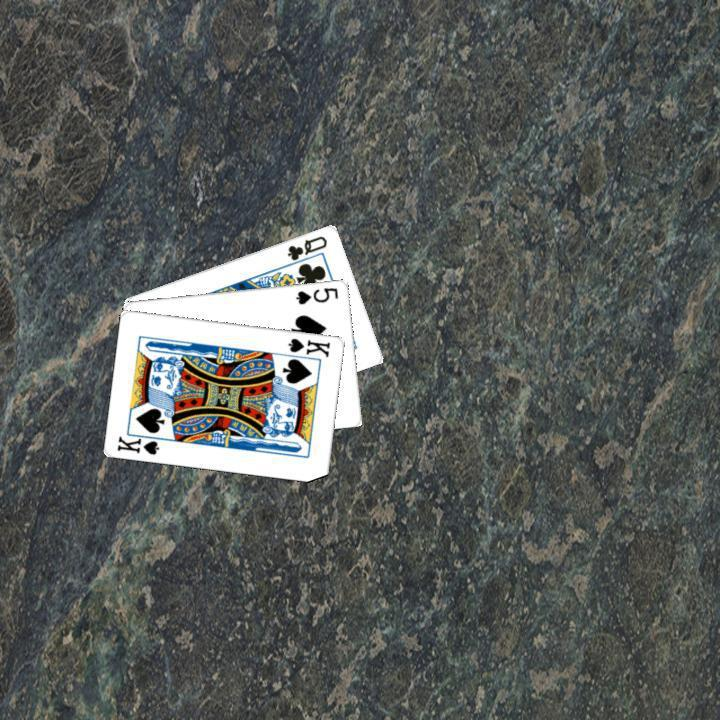5: (292, 283, 340, 306)
K: (113, 428, 167, 457), (284, 333, 333, 359)
Q: (283, 231, 329, 262)
